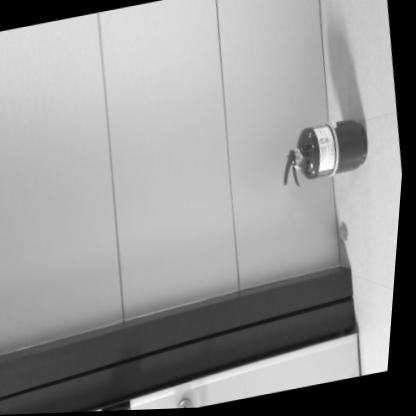FE: (278, 115, 376, 189)
